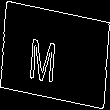M_N: (40, 27, 70, 83)
